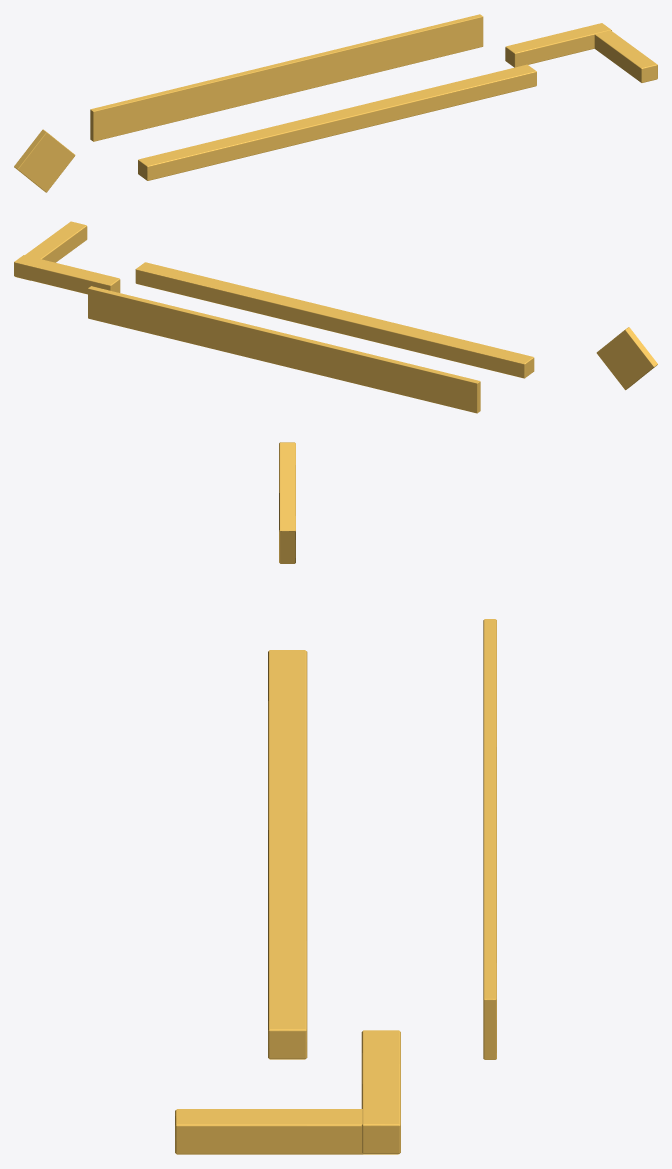
The model's file is Lobby_PROP_GoldTrim.fbx.
The picture shows the model from 3 angles, top to bottom: view 1: azimuth 30°, elevation 25°; view 2: azimuth 150°, elevation 25°; view 3: azimuth 270°, elevation 25°; orthographic projection. The views are drawn at different scales.
Visible parts, largest first — view 1: Gold__GoldTrim_Band, Gold__GoldTrim_Straight, Gold__GoldTrim_Corner, Gold__GoldTrim_Diamond; view 2: Gold__GoldTrim_Band, Gold__GoldTrim_Straight, Gold__GoldTrim_Corner, Gold__GoldTrim_Diamond; view 3: Gold__GoldTrim_Straight, Gold__GoldTrim_Corner, Gold__GoldTrim_Band, Gold__GoldTrim_Diamond.
Boxes of the visible parts, <box> form: Gold__GoldTrim_Band: <box>90,14,483,141</box>; Gold__GoldTrim_Straight: <box>138,64,536,180</box>; Gold__GoldTrim_Corner: <box>505,23,657,82</box>; Gold__GoldTrim_Diamond: <box>14,129,75,192</box>; Gold__GoldTrim_Band: <box>88,286,480,413</box>; Gold__GoldTrim_Straight: <box>135,262,534,378</box>; Gold__GoldTrim_Corner: <box>14,221,120,294</box>; Gold__GoldTrim_Diamond: <box>596,327,657,390</box>; Gold__GoldTrim_Straight: <box>268,650,307,1059</box>; Gold__GoldTrim_Corner: <box>175,1030,400,1154</box>; Gold__GoldTrim_Band: <box>483,619,496,1059</box>; Gold__GoldTrim_Diamond: <box>279,442,295,563</box>.
Size of the model in its own units: 12.6 by 1.39 by 2.86.
